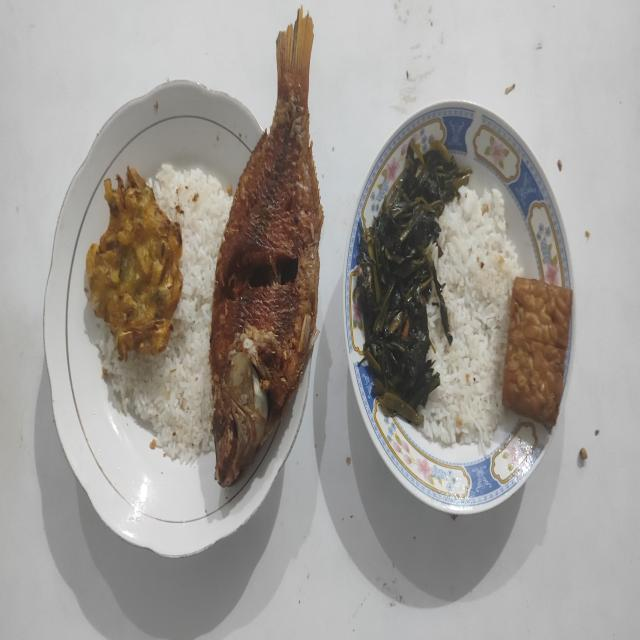ikan_mujair: (209, 9, 324, 487)
nasi_putih: (95, 165, 232, 462), (420, 190, 522, 449)
tempe_goreng: (502, 278, 572, 428)
tumis_kangkung: (355, 140, 471, 424)
